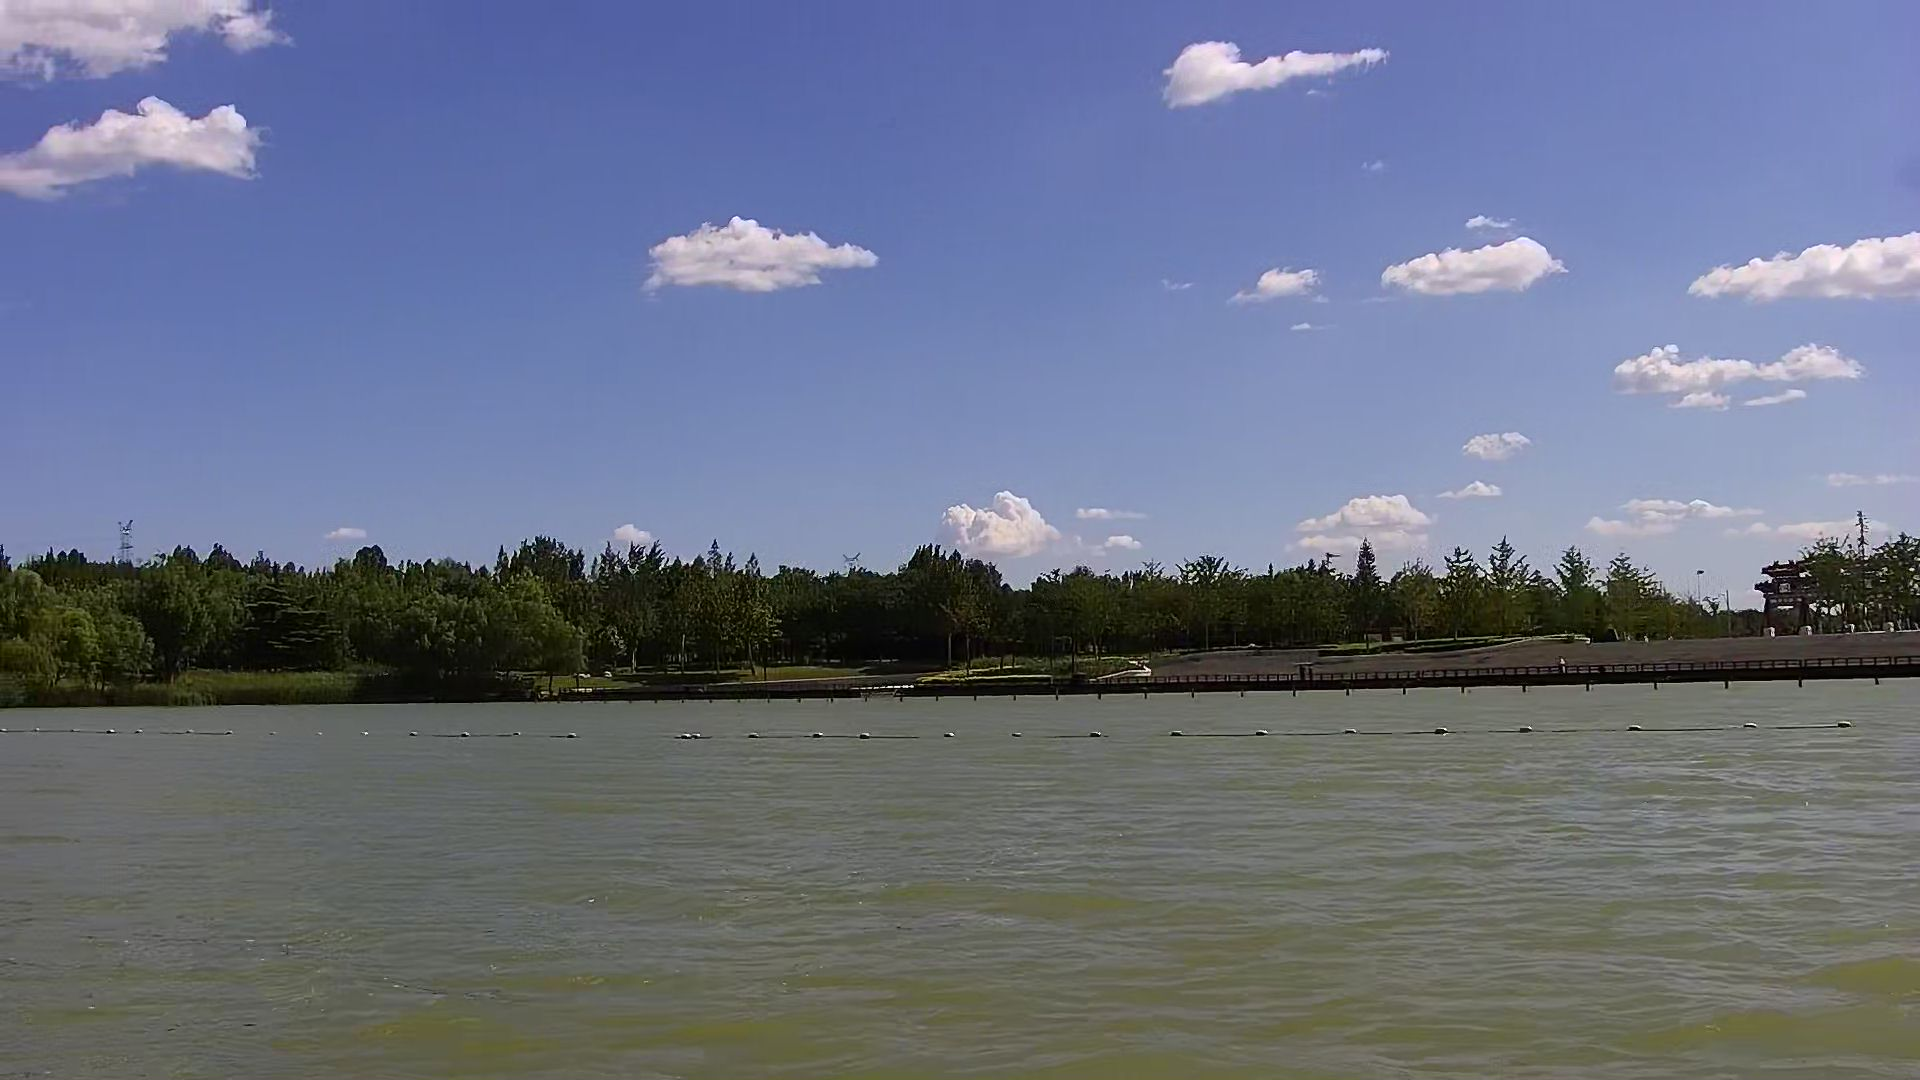ball: (1833, 712, 1859, 738), (1429, 717, 1458, 741), (1737, 715, 1763, 735), (1621, 717, 1644, 736), (1083, 723, 1105, 741), (1515, 723, 1535, 740)
harbor: (1105, 632, 1916, 696)
